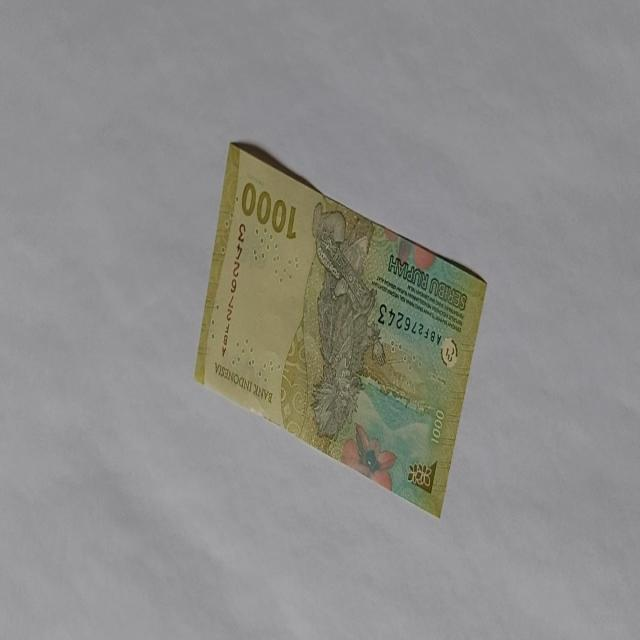seribu rupiah kertas: (194, 140, 488, 520)
